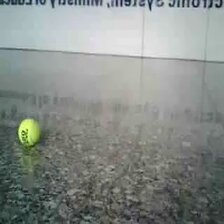tennis: (18, 117, 42, 147)
